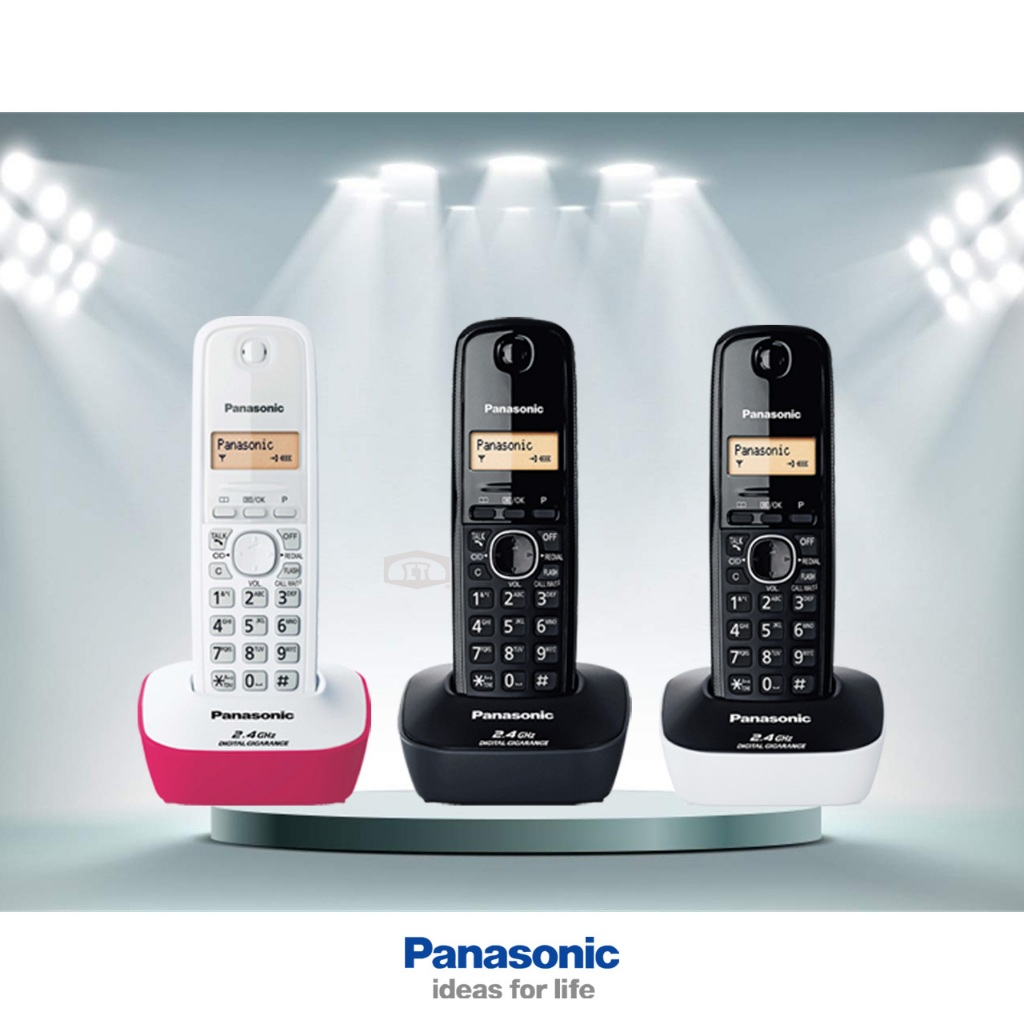telephone: (186, 316, 333, 715), (444, 316, 585, 706), (709, 325, 837, 716)
